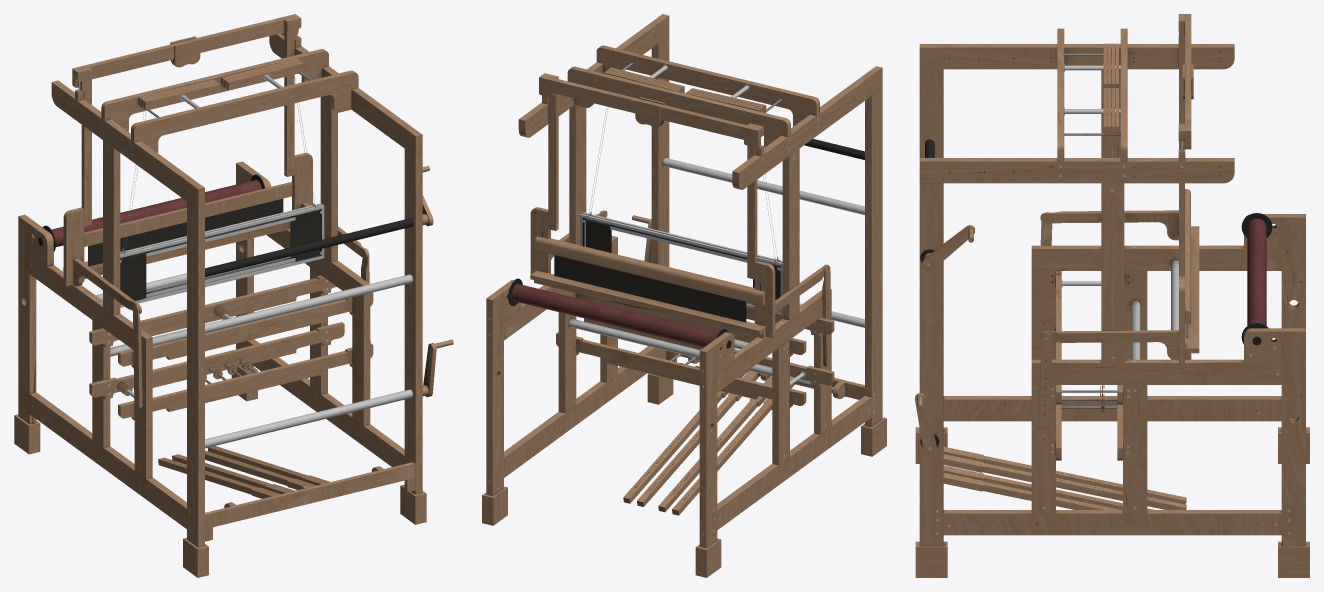
3 renders of one model, left to right at view 1: azimuth 30°, elevation 25°; view 2: azimuth 150°, elevation 25°; view 3: azimuth 270°, elevation 25°, orthographic. The views are drawn at different scales.
Parts seen in each view (by area): view 1: Loom; view 2: Loom; view 3: Loom.
Boxes of the visible parts, x1=… form: Loom: x1=14, y1=14, x2=453, y2=577; Loom: x1=482, y1=14, x2=886, y2=577; Loom: x1=915, y1=14, x2=1309, y2=577.
Size of the model in its own units: 1.17 by 1.73 by 1.38.
1 material, 1 textured.
